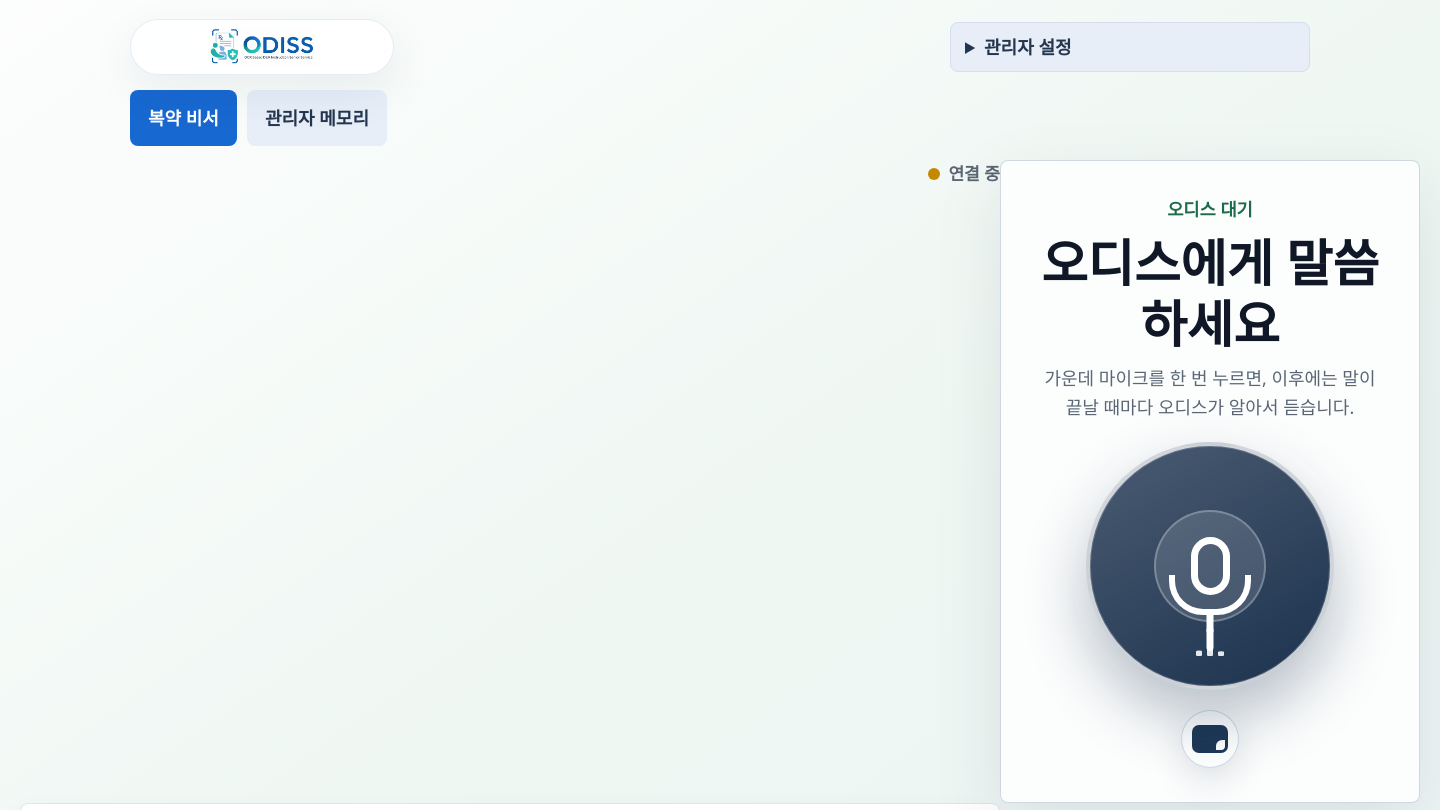
Test: App › keeps the memory browser behind admin mode
Click the button "관리자 메모리" at (317, 118), box [247,90,387,146]
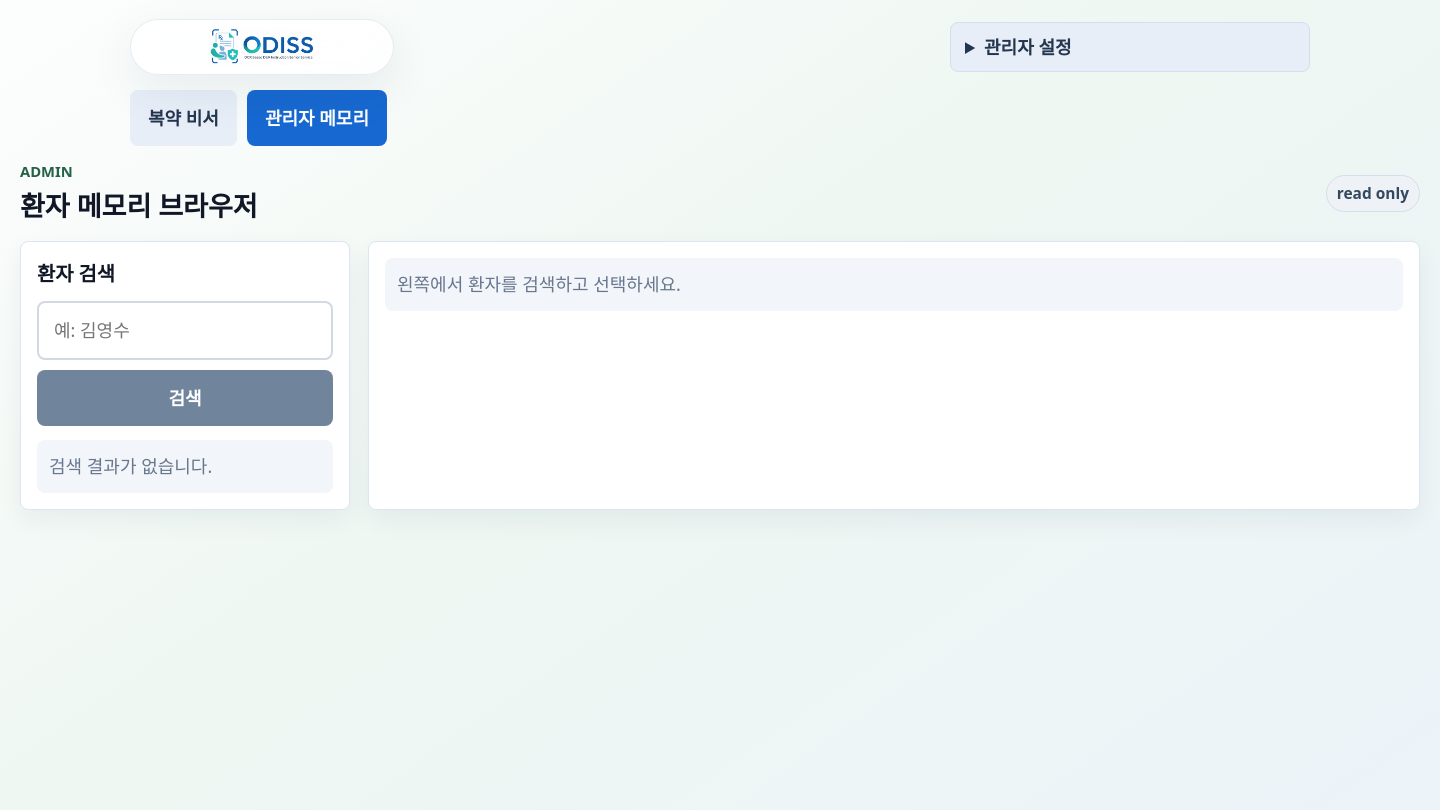
Now the heading "환자 메모리 브라우저" is shown, box [20,184,258,227]
Now the field named "환자명" is shown, box [37,302,333,360]
